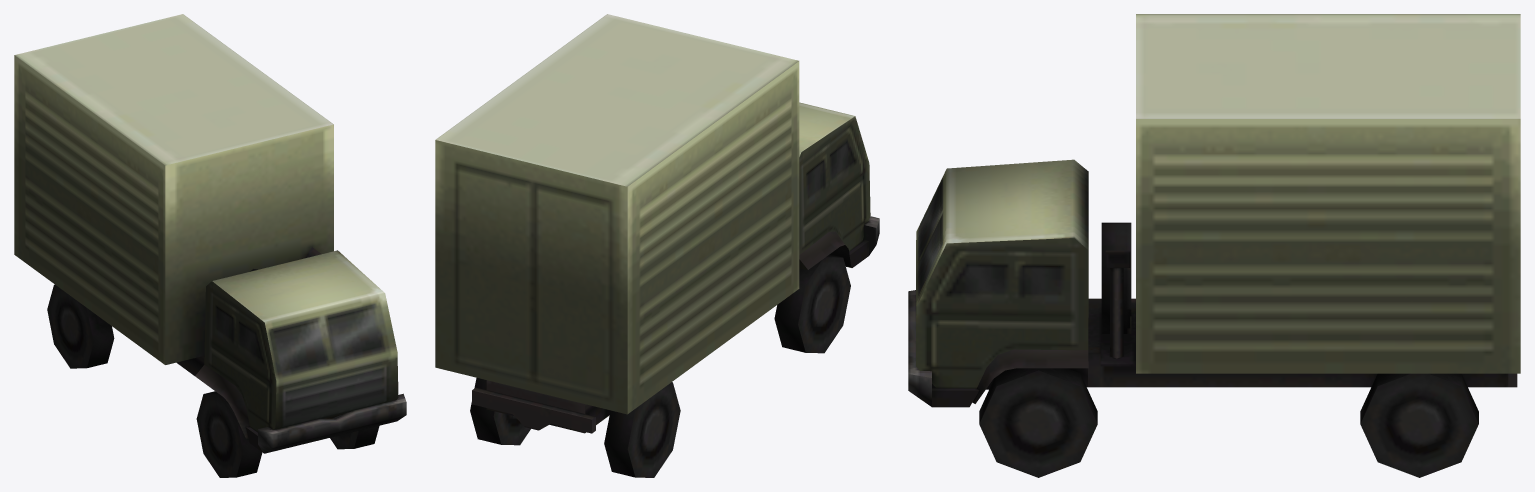
Rendered from LMTV_M1079A1.DAE.
3 renders of one model, left to right at view 1: azimuth 30°, elevation 25°; view 2: azimuth 150°, elevation 25°; view 3: azimuth 270°, elevation 25°, orthographic. The views are drawn at different scales.
Parts seen in each view (by area): view 1: _1097_LMTV_M1079A1; view 2: _1097_LMTV_M1079A1; view 3: _1097_LMTV_M1079A1.
Boxes of the visible parts, left/top/right/bottom form: _1097_LMTV_M1079A1: left=14, top=14, right=406, bottom=477; _1097_LMTV_M1079A1: left=435, top=14, right=879, bottom=477; _1097_LMTV_M1079A1: left=908, top=14, right=1520, bottom=477.
Bounding box in the file's own units: 76.1 × 124 × 188.
Materials: 1 (1 with a texture image).
